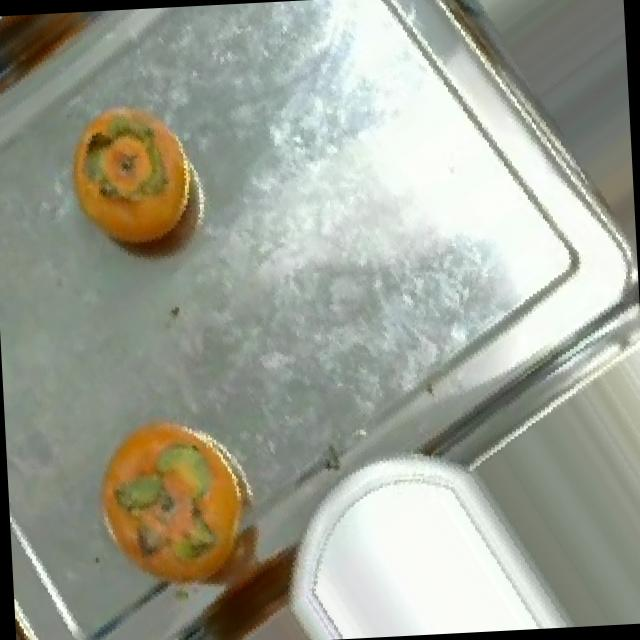Fruit: (56, 82, 220, 288)
